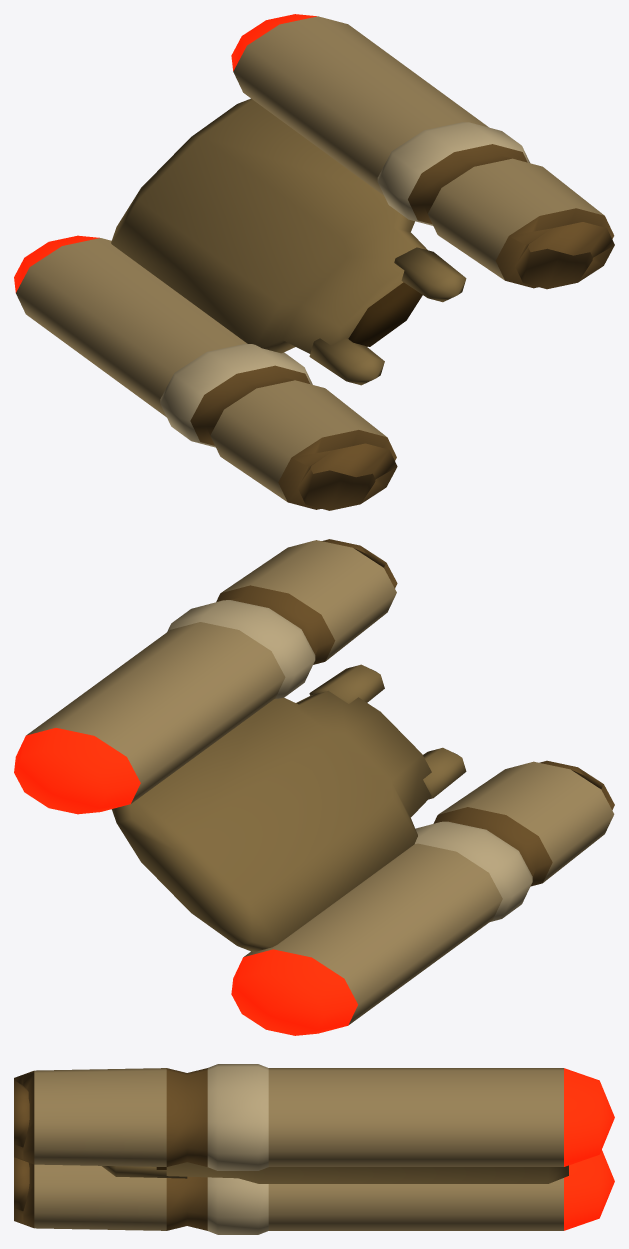
File: newsh8-19-f3.glb
3 views of the same model, one above another, from view 1: azimuth 30°, elevation 25°; view 2: azimuth 150°, elevation 25°; view 3: azimuth 270°, elevation 25° (orthographic). The views are drawn at different scales.
Parts seen in each view (by area): view 1: newsh8-19-f3; view 2: newsh8-19-f3; view 3: newsh8-19-f3.
Boxes of the visible parts, box(x1,y1,x2,y2) form: newsh8-19-f3: box(14, 14, 614, 510); newsh8-19-f3: box(14, 539, 614, 1035); newsh8-19-f3: box(14, 1064, 614, 1234).
Size of the model in its own units: 0.6802 by 0.4621 by 0.9833.
